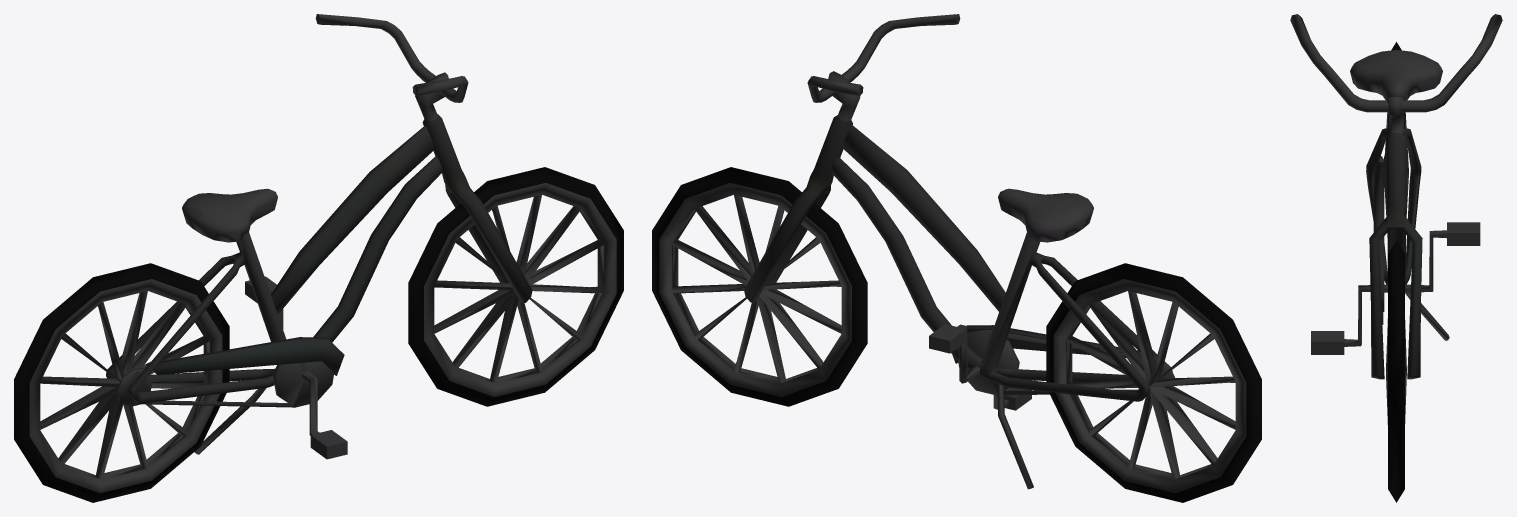
The model's file is BicycleBeachCruiserBlackKickstand.glb.
3 views of the same model, side by side, from view 1: azimuth 30°, elevation 25°; view 2: azimuth 150°, elevation 25°; view 3: azimuth 270°, elevation 25° (orthographic). The views are drawn at different scales.
Visible parts, largest first — view 1: BicycleBeachCruiserBlackKickstand; view 2: BicycleBeachCruiserBlackKickstand; view 3: BicycleBeachCruiserBlackKickstand.
Part boxes in pixels (left/top/right/bottom): BicycleBeachCruiserBlackKickstand: left=14, top=14, right=623, bottom=502; BicycleBeachCruiserBlackKickstand: left=652, top=14, right=1261, bottom=502; BicycleBeachCruiserBlackKickstand: left=1290, top=14, right=1502, bottom=502.
Bounding box in the file's own units: 2.47 × 1.5 × 0.7197.
Materials: 1 (1 with a texture image).
